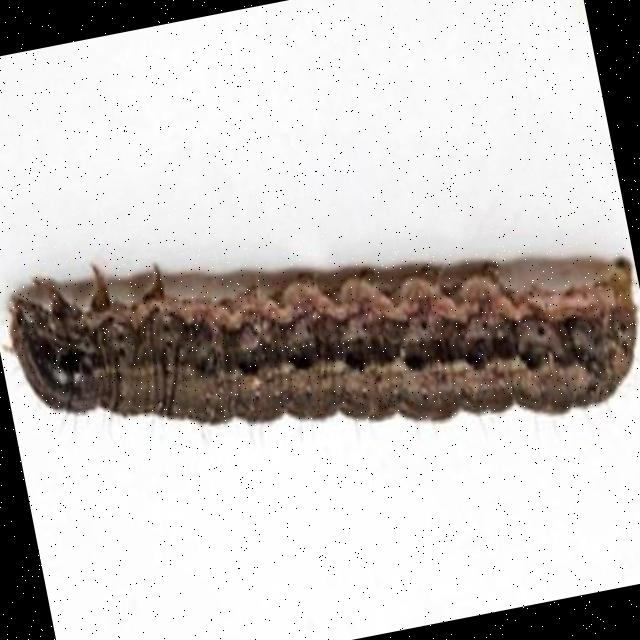worm: (1, 162, 640, 522)
